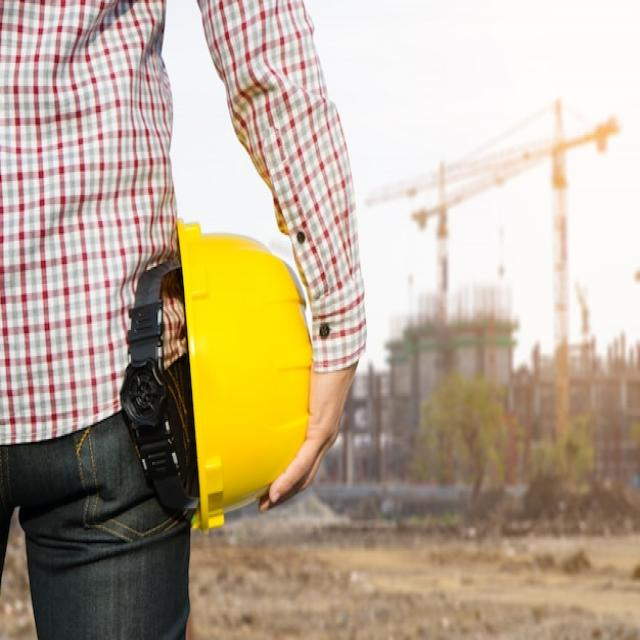helmet: (175, 227, 326, 499)
